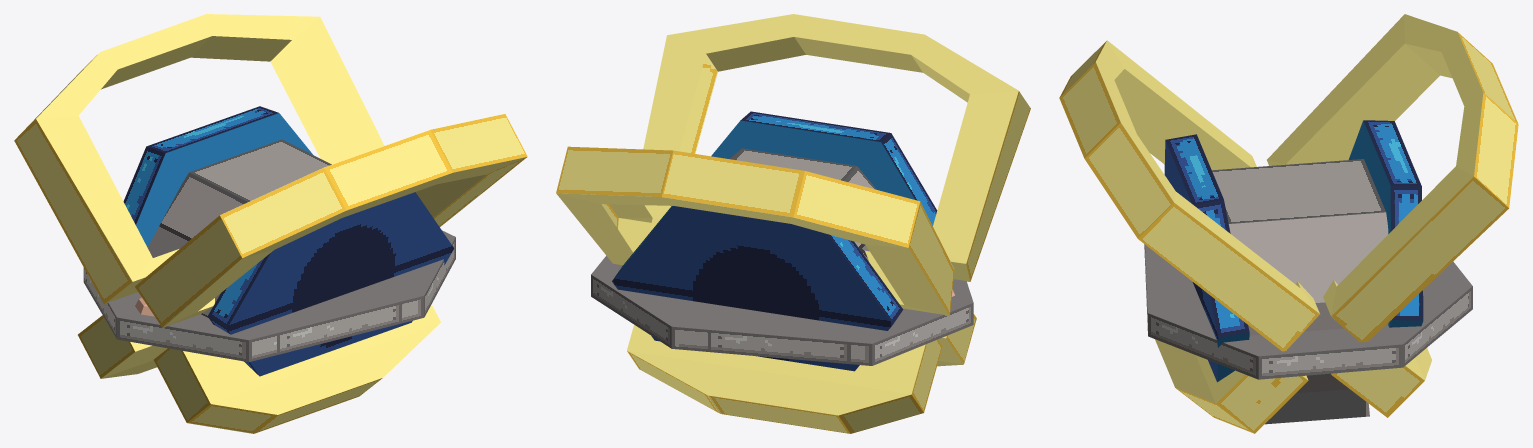
Rendered from HeavyTorso.gltf.
3 views of the same model, side by side, from view 1: azimuth 30°, elevation 25°; view 2: azimuth 150°, elevation 25°; view 3: azimuth 270°, elevation 25° (orthographic). The views are drawn at different scales.
Parts seen in each view (by area): view 1: Loop6, Loop7, Armor2, Loop3, MidPart, Armor1, Torso, Loop2; view 2: Loop6, Loop7, Armor1, Loop2, MidPart, Armor2, Torso, Loop3; view 3: Loop6, Loop7, Torso, MidPart, Loop3, Armor1, Armor2, Loop2, LowerTorso.
Boxes of the visible parts, <box> form: Loop6: <box>14,14,384,304</box>; Loop7: <box>135,114,527,327</box>; Armor2: <box>207,192,453,376</box>; Loop3: <box>153,304,440,433</box>; MidPart: <box>83,230,455,362</box>; Armor1: <box>123,106,312,247</box>; Torso: <box>147,139,331,317</box>; Loop2: <box>78,315,167,378</box>; Loop6: <box>556,146,954,316</box>; Loop7: <box>643,14,1030,281</box>; Armor1: <box>612,206,903,371</box>; Loop2: <box>627,324,942,433</box>; MidPart: <box>591,255,973,365</box>; Armor2: <box>711,111,937,225</box>; Torso: <box>729,148,876,261</box>; Loop3: <box>937,314,976,366</box>; Loop6: <box>1267,14,1518,342</box>; Loop7: <box>1059,40,1319,351</box>; Torso: <box>1212,159,1388,393</box>; MidPart: <box>1144,244,1472,379</box>; Loop3: <box>1155,339,1308,433</box>; Armor1: <box>1348,120,1423,327</box>; Armor2: <box>1164,134,1249,382</box>; Loop2: <box>1331,348,1431,417</box>; LowerTorso: <box>1265,389,1369,424</box>.
Size of the model in its own units: 0.8818 by 0.6718 by 0.896.
Materials: 1 (1 with a texture image).
